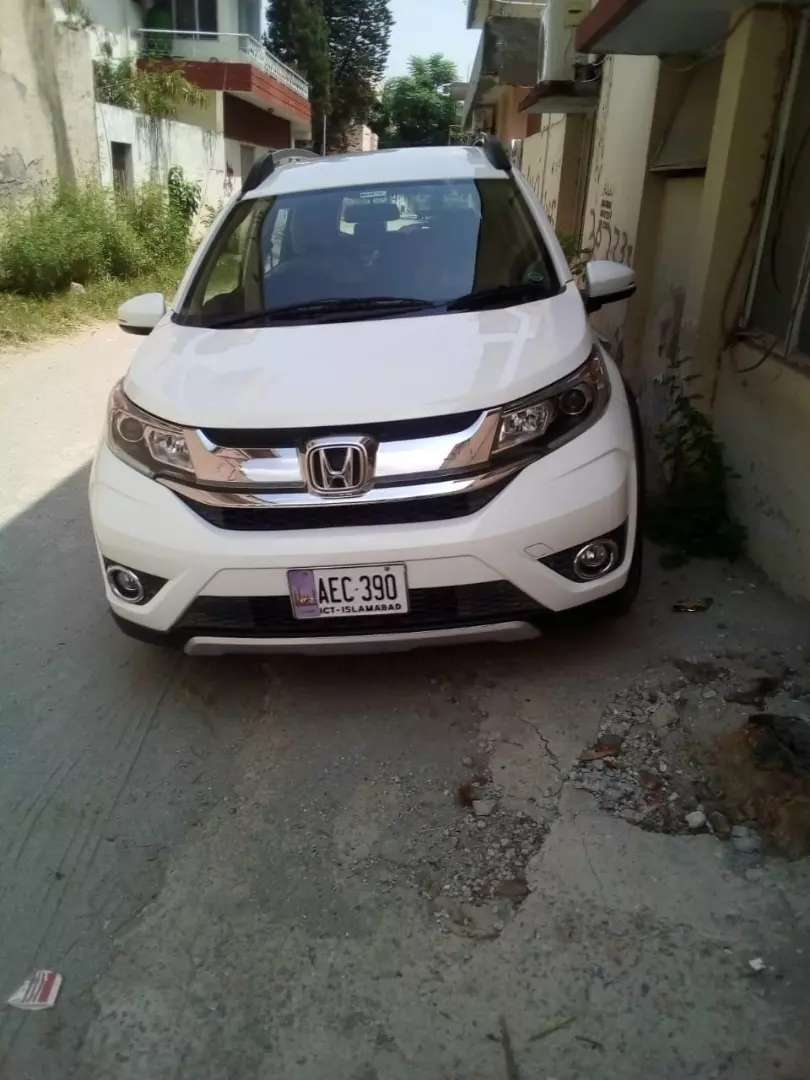plate: (284, 561, 412, 625)
